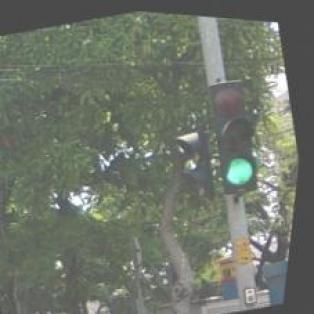Semaforo Verde: (202, 73, 274, 194)
